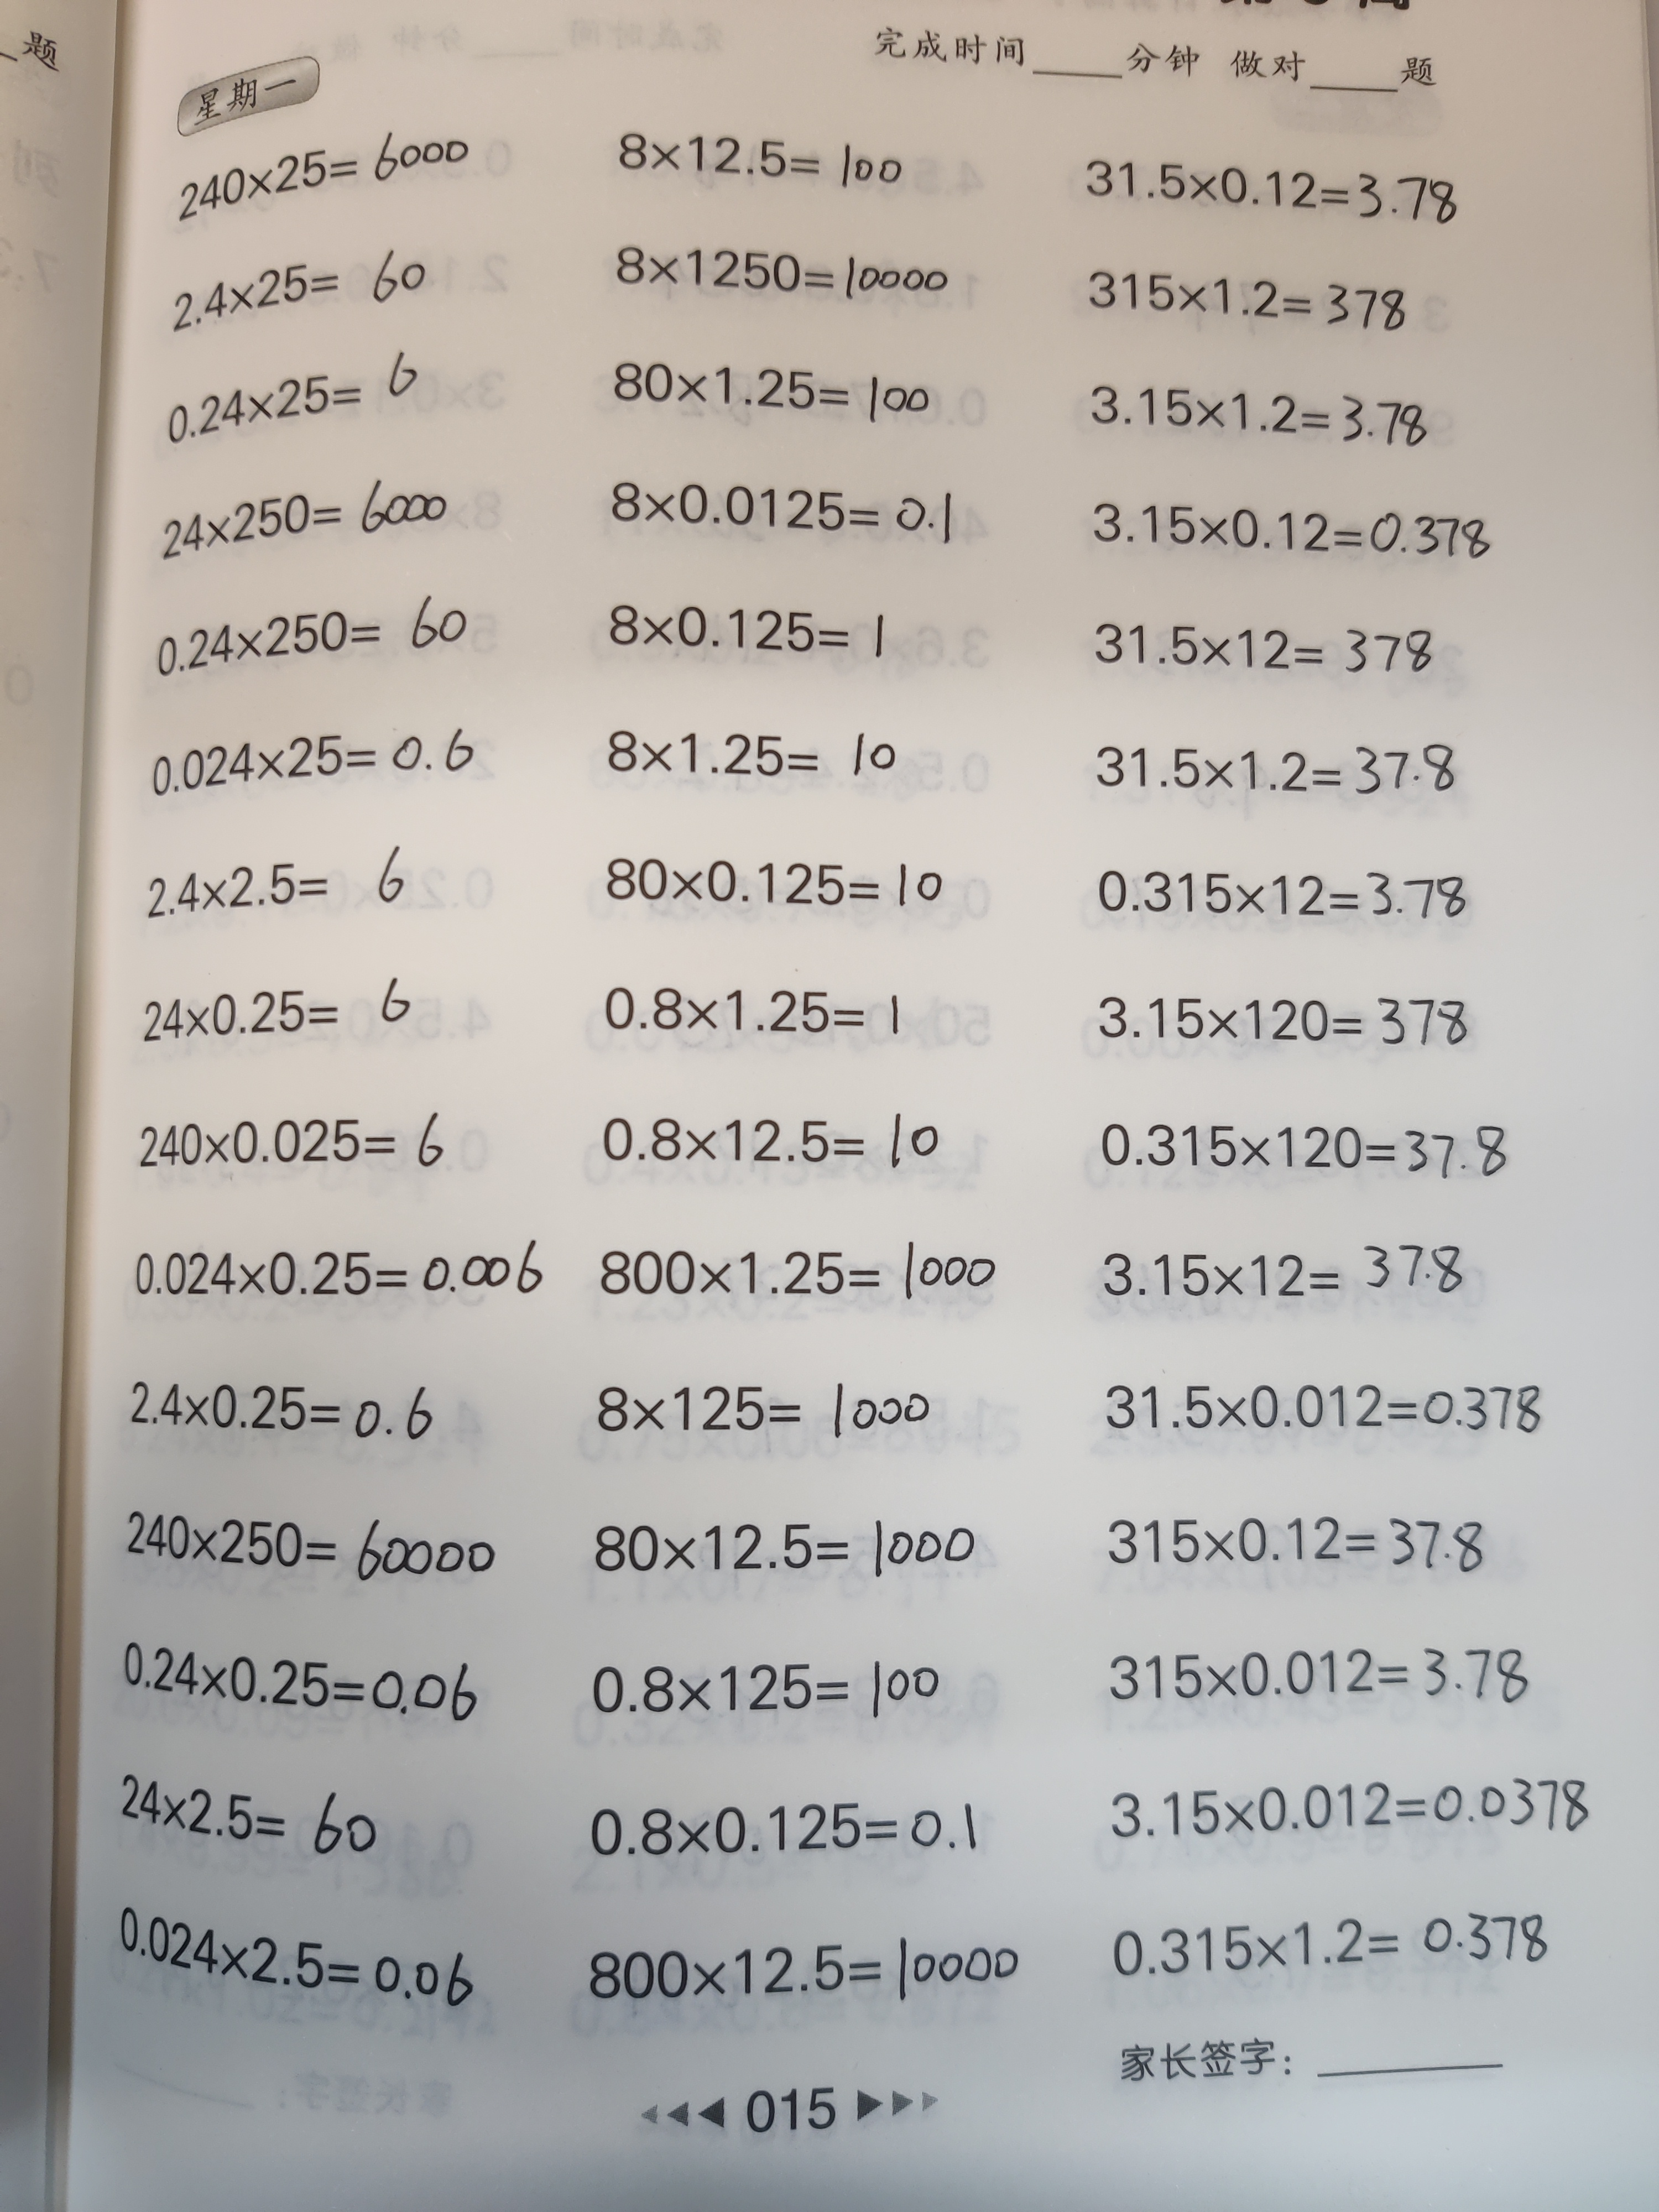equation: (1066, 111, 1484, 241), (573, 1923, 1037, 2032), (109, 1618, 492, 1745), (109, 1895, 492, 2022), (121, 1224, 552, 1337), (1097, 1765, 1598, 1861), (576, 1486, 984, 1601), (576, 1772, 1006, 1878), (1083, 1099, 1518, 1202), (1086, 714, 1480, 827), (578, 1632, 968, 1743), (1095, 1895, 1562, 1986), (109, 1491, 504, 1599), (1083, 483, 1496, 584), (583, 1229, 1004, 1327), (1071, 252, 1444, 361), (595, 834, 968, 942), (1093, 1632, 1542, 1721), (581, 1356, 948, 1464), (109, 1358, 448, 1472), (1083, 842, 1482, 938), (1095, 1226, 1482, 1325), (1090, 1370, 1552, 1452), (1095, 1498, 1499, 1589), (107, 1760, 410, 1880), (1088, 971, 1484, 1063), (1081, 373, 1458, 469), (602, 459, 965, 558), (607, 223, 970, 322), (607, 344, 941, 445), (581, 1099, 953, 1188), (578, 964, 922, 1060), (131, 721, 482, 815), (126, 1099, 456, 1197), (148, 594, 484, 690), (126, 964, 434, 1065), (599, 589, 910, 687), (1078, 606, 1451, 687), (140, 839, 446, 938), (590, 702, 912, 794), (160, 471, 467, 567), (607, 111, 922, 204), (167, 134, 474, 228), (157, 250, 458, 344), (155, 361, 446, 435)
